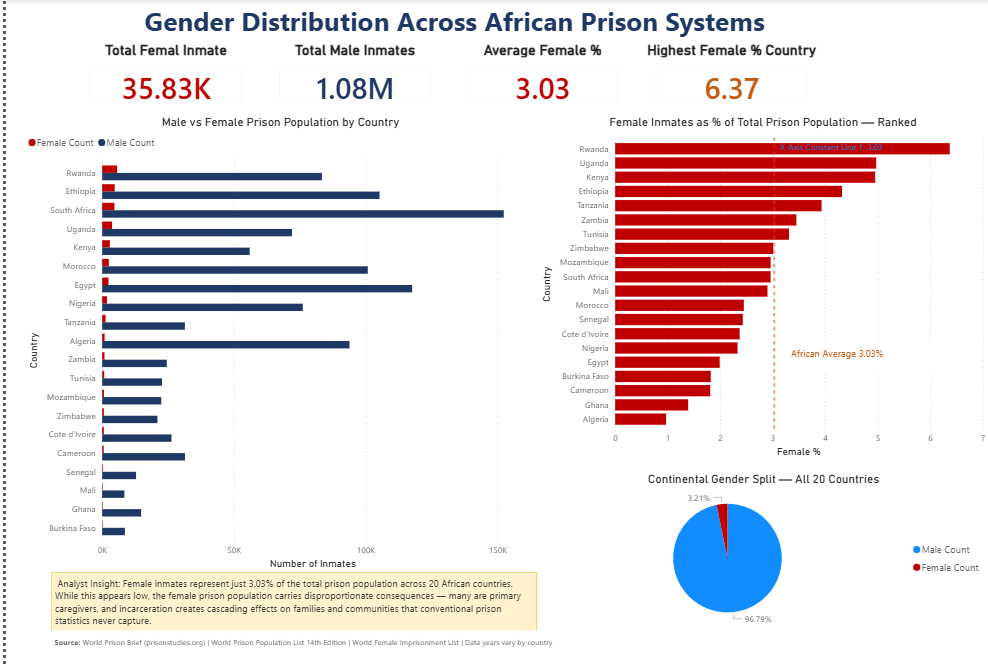

What the dashboard file says about the page in this screenshot:
{"tool":"powerbi","page":{"name":"Gender Analysis","canvas":[1400,950],"ordinal":1},"visuals":[{"type":"clusteredBarChart","title":"Female Inmates as % of Total Prison Population — Ranked","fields":{"Category":["Main Analysis Table.Country"],"Y":["Sum(Main Analysis Table.Female %)"]},"box":[757,163.9,643.6,491.8],"z":0},{"type":"textbox","box":[10.1,0,1256.9,60.7],"z":1000},{"type":"cardVisual","title":"Total Femal Inmate","fields":{"Data":["Sum(Main Analysis Table.Female Count)"]},"box":[103.2,60.7,251,103.2],"z":2000},{"type":"cardVisual","title":"Total Male Inmates","fields":{"Data":["Sum(Main Analysis Table.Male Count)"]},"box":[372.4,60.7,251,103.2],"z":3000},{"type":"cardVisual","title":"Average Female % ","fields":{"Data":["Avg(Main Analysis Table.Female %)"]},"box":[639.5,60.7,251,103.2],"z":4000},{"type":"cardVisual","title":"Highest Female % Country","fields":{"Data":["Max(Main Analysis Table.Female %)"]},"box":[908.7,60.7,251,103.2],"z":5000},{"type":"clusteredBarChart","title":"Male vs Female Prison Population by Country","fields":{"Category":["Main Analysis Table.Country"],"Y":["Sum(Main Analysis Table.Female Count)","Sum(Main Analysis Table.Male Count)"]},"box":[26.3,163.9,730.7,651.7],"z":6000},{"type":"pieChart","title":"Continental Gender Split — All 20 Countries","fields":{"Y":["Sum(Main Analysis Table.Male Count)","Sum(Main Analysis Table.Female Count)"]},"box":[759,674,641.6,226.7],"z":7000},{"type":"textbox","box":[64.8,815.7,692.2,85],"z":8000},{"type":"textbox","box":[1113.2,489.8,255,44.5],"z":9000},{"type":"textbox","box":[64.1,899.5,950.7,51.3],"z":9001}]}

Visuals, with their boxes in screenshot pixels (x1, y1, x2, y2), scaled from the page's 1400x950 canvas onto the 988x664 screenshot:
"Female Inmates as % of Total Prison Population — Ranked" clusteredBarChart: <bbox>534, 115, 987, 458</bbox>
textbox: <bbox>7, 0, 894, 42</bbox>
"Total Femal Inmate" cardVisual: <bbox>73, 42, 250, 115</bbox>
"Total Male Inmates" cardVisual: <bbox>263, 42, 440, 115</bbox>
"Average Female % " cardVisual: <bbox>451, 42, 628, 115</bbox>
"Highest Female % Country" cardVisual: <bbox>641, 42, 818, 115</bbox>
"Male vs Female Prison Population by Country" clusteredBarChart: <bbox>19, 115, 534, 570</bbox>
"Continental Gender Split — All 20 Countries" pieChart: <bbox>536, 471, 987, 630</bbox>
textbox: <bbox>46, 570, 534, 630</bbox>
textbox: <bbox>786, 342, 966, 373</bbox>
textbox: <bbox>45, 629, 716, 663</bbox>
